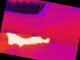Foc: (0, 26, 51, 56)
